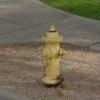Hydrant: (31, 15, 68, 89)
